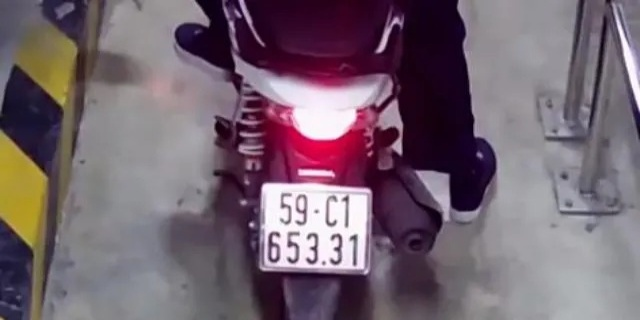bien_so: (260, 181, 369, 276)
